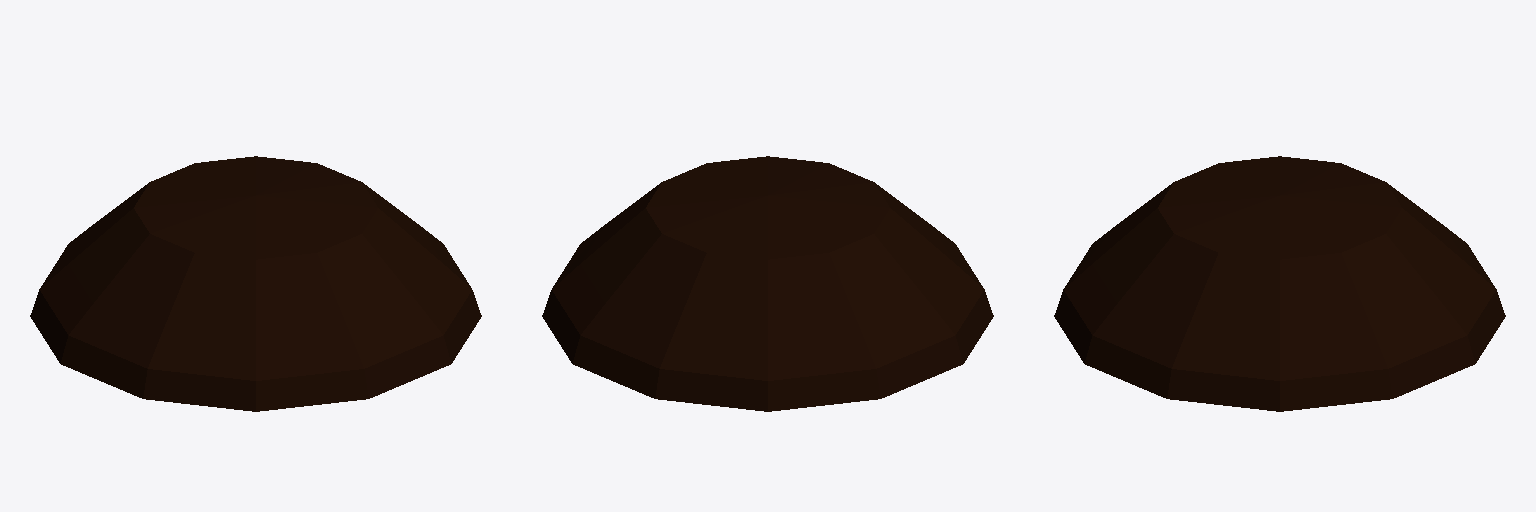
3 views of the same model, side by side, from view 1: azimuth 30°, elevation 25°; view 2: azimuth 150°, elevation 25°; view 3: azimuth 270°, elevation 25° (orthographic).
Parts seen in each view (by area): view 1: erde; view 2: erde; view 3: erde.
Part boxes in pixels (x1,y1,x2,y2): erde: (30, 156, 481, 411); erde: (542, 156, 993, 411); erde: (1054, 156, 1505, 411).
Bounding box in the file's own units: 0.7405 × 0.2188 × 0.7405.